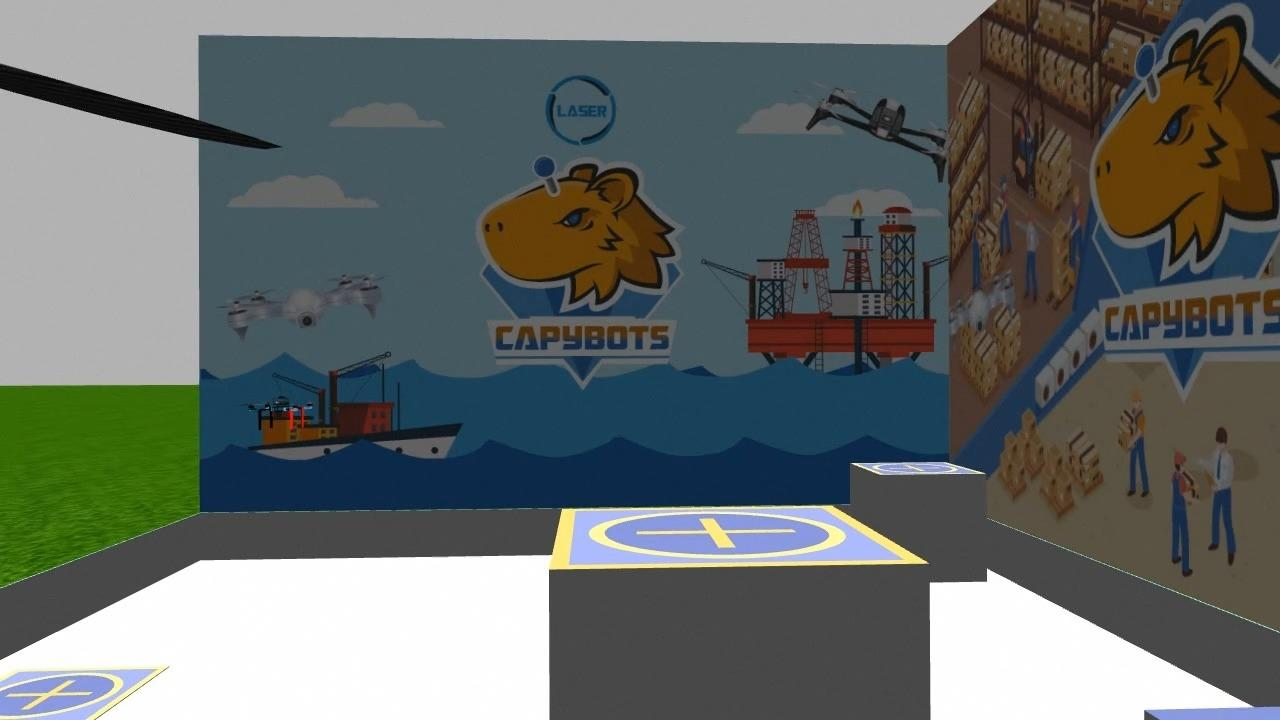UAV: (243, 390, 321, 442)
